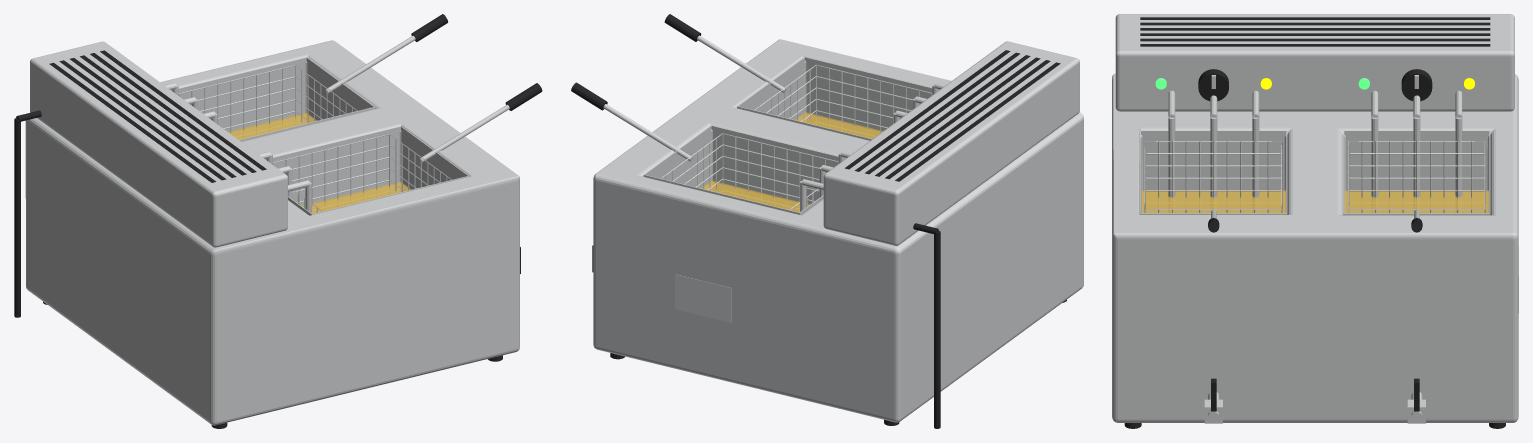
File: Doppelfriteuse.glb
3 renders of one model, left to right at view 1: azimuth 30°, elevation 25°; view 2: azimuth 150°, elevation 25°; view 3: azimuth 270°, elevation 25°, orthographic. The views are drawn at different scales.
Parts seen in each view (by area): view 1: Fritteuse_IMBISS_II_Gehaeuse, Fritteuse_IMBISS_II_Schaltkasten, Fritteuse_IMBISS_II_Becken_1, Fritteuse_IMBISS_II_Becken_2, Fritteuse_IMBISS_II_Korb_1, Fritteuse_IMBISS_II_Korb_2, Fritteuse_IMBISS_II_Kabel2, Fritteuse_IMBISS_II_Oel_1, Fritteuse_IMBISS_II_Oel_2, Fritteuse_IMBISS_II_Lueftung_4, Fritteuse_IMBISS_II_Lueftung_0, Fritteuse_IMBISS_II_Lueftung_1 (+5 smaller); view 2: Fritteuse_IMBISS_II_Gehaeuse, Fritteuse_IMBISS_II_Schaltkasten, Fritteuse_IMBISS_II_Becken_2, Fritteuse_IMBISS_II_Becken_1, Fritteuse_IMBISS_II_Korb_2, Fritteuse_IMBISS_II_Korb_1, Fritteuse_IMBISS_II_Typenschild, Fritteuse_IMBISS_II_Kabel2, Fritteuse_IMBISS_II_Oel_2, Fritteuse_IMBISS_II_Oel_1, Fritteuse_IMBISS_II_Lueftung_0, Fritteuse_IMBISS_II_Lueftung_2 (+6 smaller); view 3: Fritteuse_IMBISS_II_Gehaeuse, Fritteuse_IMBISS_II_Schaltkasten, Fritteuse_IMBISS_II_Becken_2, Fritteuse_IMBISS_II_Becken_1, Fritteuse_IMBISS_II_Oel_1, Fritteuse_IMBISS_II_Oel_2, Fritteuse_IMBISS_II_Korb_1, Fritteuse_IMBISS_II_Korb_2, Fritteuse_IMBISS_II_Lueftung_1, Fritteuse_IMBISS_II_Lueftung_4, Fritteuse_IMBISS_II_Lueftung_0, Fritteuse_IMBISS_II_Lueftung_2 (+10 smaller).
Boxes of the visible parts, <box> form: Fritteuse_IMBISS_II_Gehaeuse: <box>25,40,519,425</box>; Fritteuse_IMBISS_II_Schaltkasten: <box>30,41,287,247</box>; Fritteuse_IMBISS_II_Becken_1: <box>265,126,469,215</box>; Fritteuse_IMBISS_II_Becken_2: <box>171,57,375,141</box>; Fritteuse_IMBISS_II_Korb_1: <box>273,134,451,212</box>; Fritteuse_IMBISS_II_Korb_2: <box>178,65,357,136</box>; Fritteuse_IMBISS_II_Kabel2: <box>14,118,20,317</box>; Fritteuse_IMBISS_II_Oel_1: <box>302,181,411,213</box>; Fritteuse_IMBISS_II_Oel_2: <box>228,113,317,139</box>; Fritteuse_IMBISS_II_Lueftung_4: <box>59,60,226,180</box>; Fritteuse_IMBISS_II_Lueftung_0: <box>100,50,266,170</box>; Fritteuse_IMBISS_II_Lueftung_1: <box>90,53,256,172</box>; Fritteuse_IMBISS_II_Gehaeuse: <box>593,39,1083,422</box>; Fritteuse_IMBISS_II_Schaltkasten: <box>823,41,1079,245</box>; Fritteuse_IMBISS_II_Becken_2: <box>643,125,845,214</box>; Fritteuse_IMBISS_II_Becken_1: <box>737,57,939,140</box>; Fritteuse_IMBISS_II_Korb_2: <box>661,133,838,211</box>; Fritteuse_IMBISS_II_Korb_1: <box>754,64,932,136</box>; Fritteuse_IMBISS_II_Typenschild: <box>675,274,731,322</box>; Fritteuse_IMBISS_II_Kabel2: <box>934,231,940,428</box>; Fritteuse_IMBISS_II_Oel_2: <box>701,180,810,212</box>; Fritteuse_IMBISS_II_Oel_1: <box>795,112,882,138</box>; Fritteuse_IMBISS_II_Lueftung_0: <box>845,50,1010,169</box>; Fritteuse_IMBISS_II_Lueftung_2: <box>865,55,1030,174</box>; Fritteuse_IMBISS_II_Gehaeuse: <box>1112,73,1518,422</box>; Fritteuse_IMBISS_II_Schaltkasten: <box>1115,14,1514,111</box>; Fritteuse_IMBISS_II_Becken_2: <box>1343,130,1490,215</box>; Fritteuse_IMBISS_II_Becken_1: <box>1140,130,1287,214</box>; Fritteuse_IMBISS_II_Oel_1: <box>1141,190,1285,212</box>; Fritteuse_IMBISS_II_Oel_2: <box>1344,190,1488,212</box>; Fritteuse_IMBISS_II_Korb_1: <box>1144,141,1282,212</box>; Fritteuse_IMBISS_II_Korb_2: <box>1348,141,1485,212</box>; Fritteuse_IMBISS_II_Lueftung_1: <box>1140,38,1490,41</box>; Fritteuse_IMBISS_II_Lueftung_4: <box>1140,22,1490,25</box>; Fritteuse_IMBISS_II_Lueftung_0: <box>1140,44,1490,46</box>; Fritteuse_IMBISS_II_Lueftung_2: <box>1140,33,1490,35</box>.
Size of the model in its own units: 7.13 by 4.1 by 5.81.
